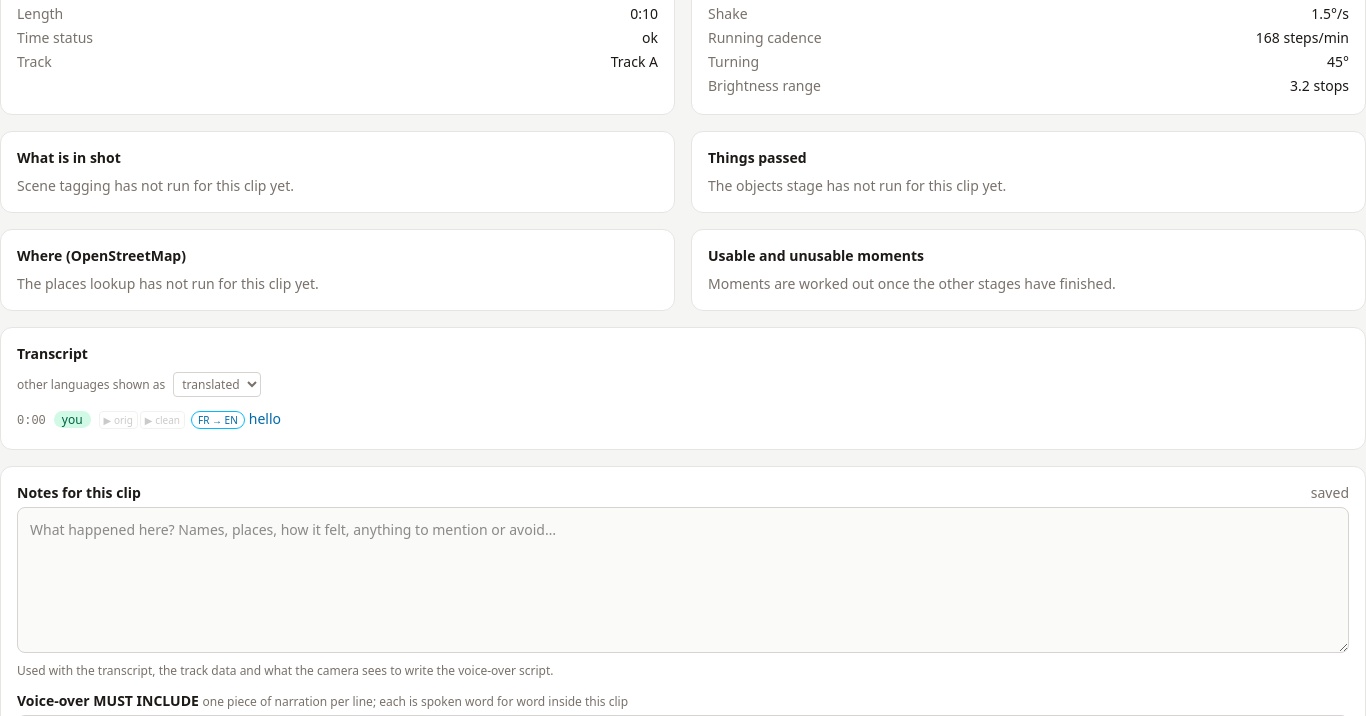
Test: ClipView › allows changing the transcript language mode
(page scrolled)
Check: the text "hello" is shown, box 249,409 -> 281,428
Check: the text "bonjour" is not shown
Select "original" in the dropdown: (217, 385) 173,372 -> 261,397
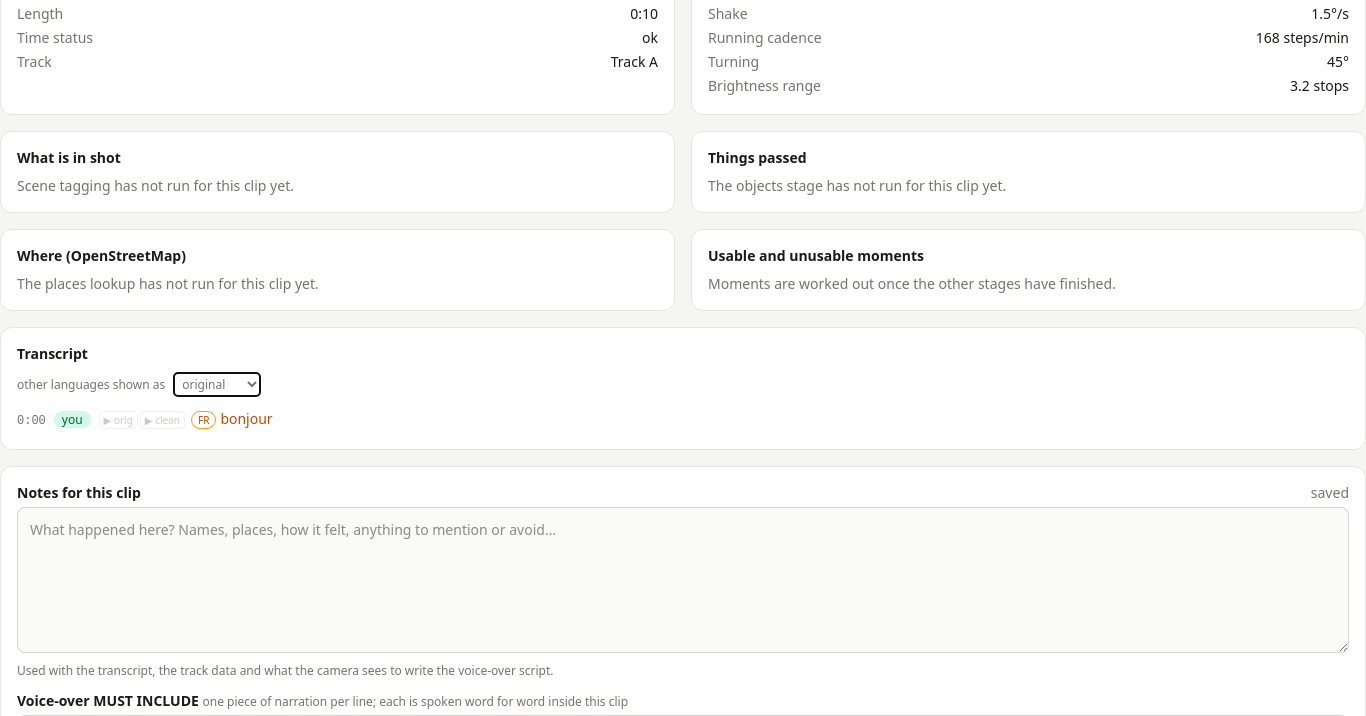
Check: the text "bonjour" is shown, box 220,409 -> 273,428
Check: the text "hello" is gone
Select "both" in the dropdown: (217, 385) 173,372 -> 261,397
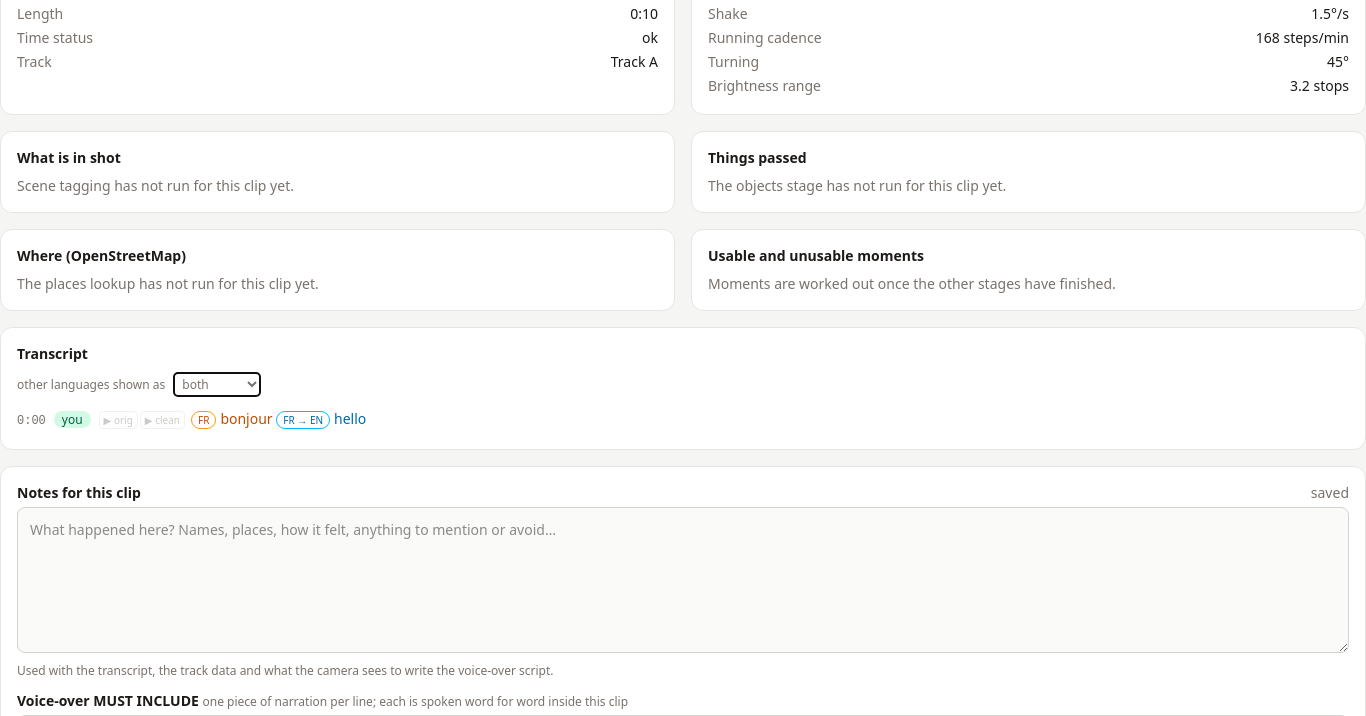
Check: the text "bonjour" is shown, box 220,409 -> 273,428
Check: the text "hello" is shown, box 334,409 -> 366,428
